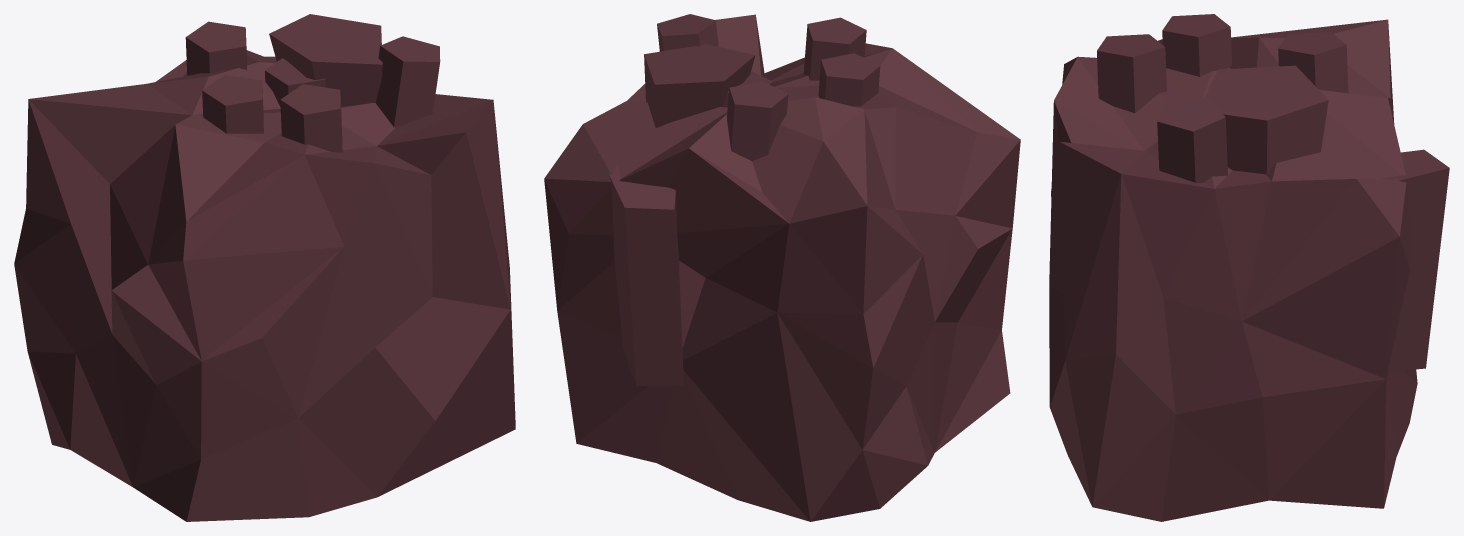
Rendered from scandium.fbx.
3 renders of one model, left to right at view 1: azimuth 30°, elevation 25°; view 2: azimuth 150°, elevation 25°; view 3: azimuth 270°, elevation 25°, orthographic. The views are drawn at different scales.
Parts seen in each view (by area): view 1: scandium; view 2: scandium; view 3: scandium.
Part boxes in pixels (x1,y1,x2,y2): scandium: (14,14,515,521); scandium: (544,14,1020,521); scandium: (1049,14,1449,521).
Bounding box in the file's own units: 0.3726 × 0.3802 × 0.345.
